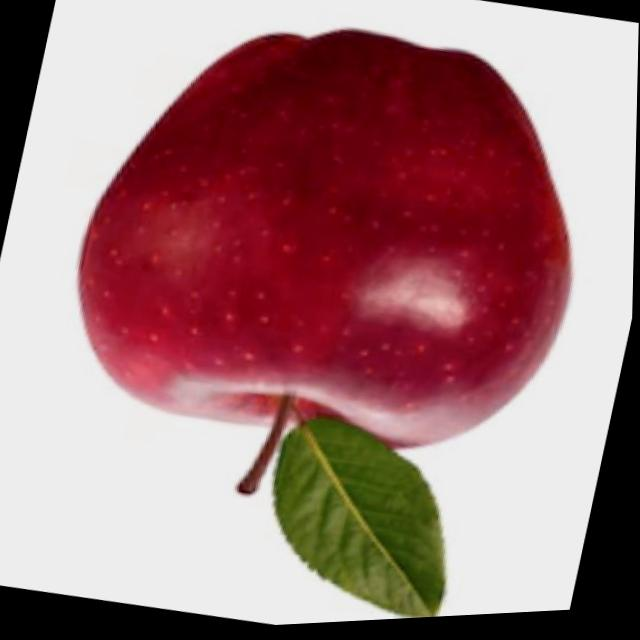Apple: (34, 0, 626, 524)
